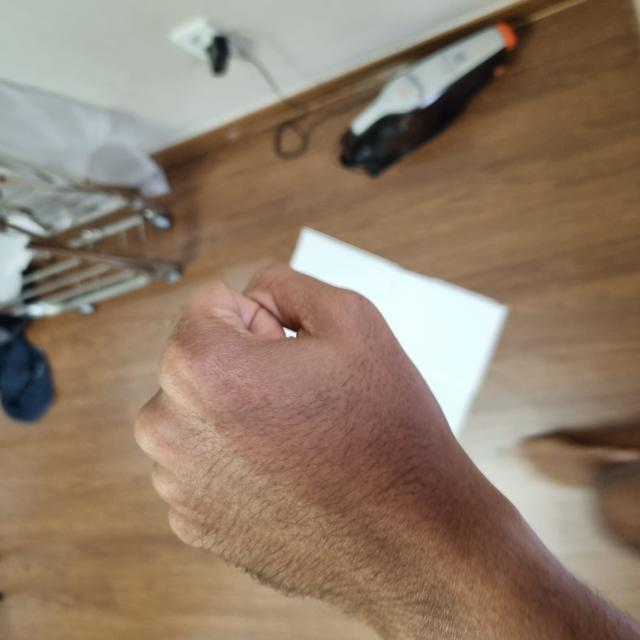Rock: (15, 135, 371, 477)
